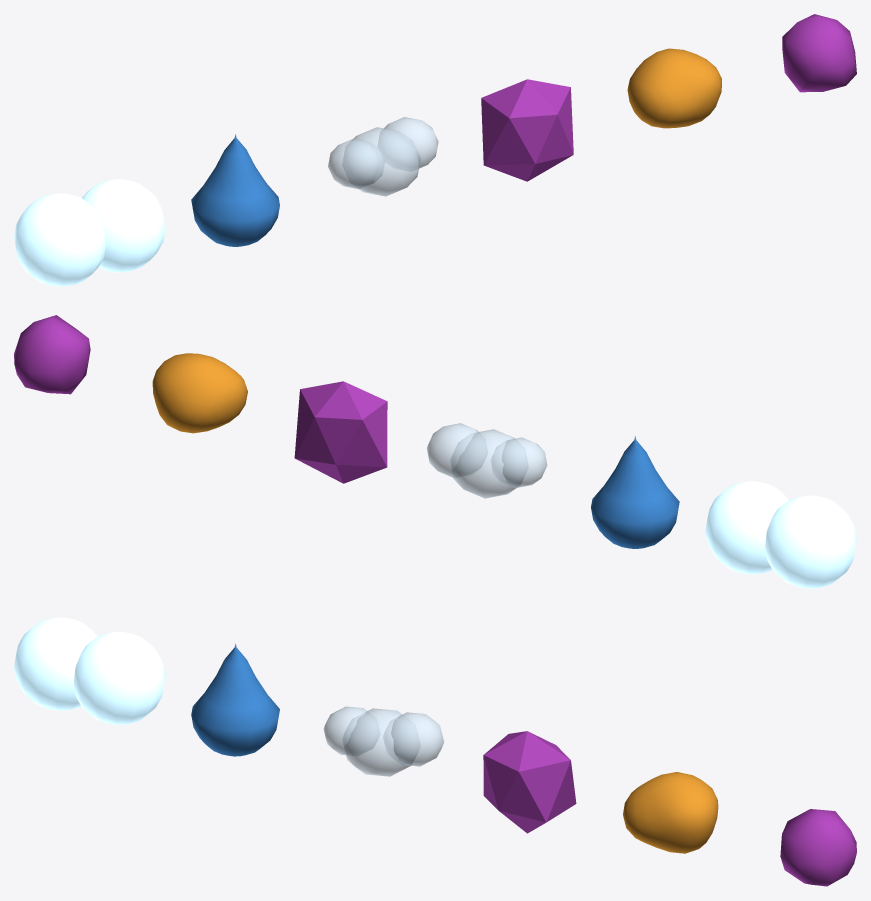
The model's file is waste-visuals.glb.
3 views of the same model, one above another, from view 1: azimuth 30°, elevation 25°; view 2: azimuth 150°, elevation 25°; view 3: azimuth 330°, elevation 25° (orthographic).
Visible parts, largest first — view 1: O2_Molecule, Waste_Crystal, Water_Droplet, Vapour_Puff, Resin_Drop, Soil_Waste_Particle; view 2: O2_Molecule, Waste_Crystal, Vapour_Puff, Water_Droplet, Resin_Drop, Soil_Waste_Particle; view 3: O2_Molecule, Waste_Crystal, Vapour_Puff, Water_Droplet, Resin_Drop, Soil_Waste_Particle.
Part boxes in pixels (x1,y1,x2,y2): O2_Molecule: [14, 179, 165, 286]; Waste_Crystal: [481, 79, 573, 181]; Water_Droplet: [191, 134, 279, 246]; Vapour_Puff: [328, 117, 438, 196]; Resin_Drop: [627, 48, 721, 128]; Soil_Waste_Particle: [782, 14, 856, 92]; O2_Molecule: [705, 481, 856, 588]; Waste_Crystal: [294, 381, 387, 483]; Vapour_Puff: [427, 423, 547, 498]; Water_Droplet: [591, 436, 679, 548]; Resin_Drop: [152, 353, 247, 433]; Soil_Waste_Particle: [14, 315, 90, 394]; O2_Molecule: [14, 617, 165, 725]; Waste_Crystal: [483, 731, 576, 833]; Vapour_Puff: [323, 706, 443, 776]; Water_Droplet: [191, 643, 279, 756]; Resin_Drop: [623, 772, 718, 853]; Soil_Waste_Particle: [780, 809, 856, 886].
Size of the model in its own units: 8.54 by 1.18 by 0.8417.
